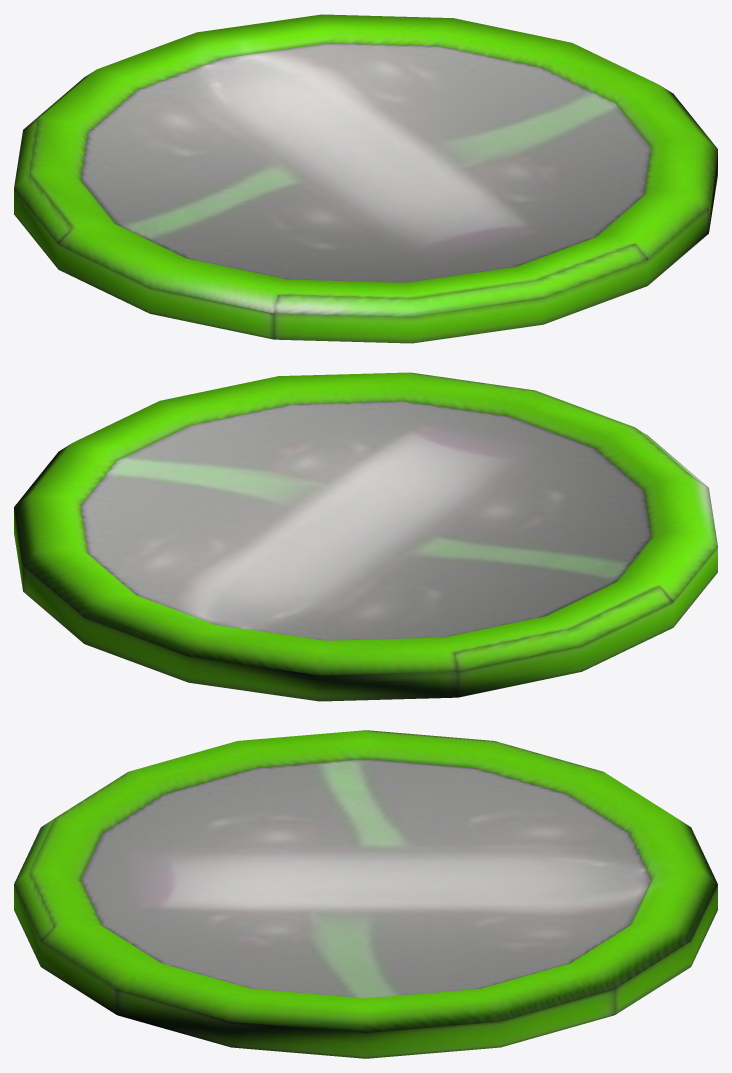
File: carstand.obj
The picture shows the model from 3 angles, top to bottom: view 1: azimuth 30°, elevation 25°; view 2: azimuth 150°, elevation 25°; view 3: azimuth 270°, elevation 25°; orthographic projection.
Parts seen in each view (by area): view 1: Cylinder001; view 2: Cylinder001; view 3: Cylinder001.
Part boxes in pixels (box(x1,y1,x2,y2)): Cylinder001: box(14, 14, 717, 343); Cylinder001: box(14, 372, 717, 701); Cylinder001: box(14, 730, 717, 1058).
Bounding box in the file's own units: 52.96 × 3.14 × 52.96.
Materials: 1 (1 with a texture image).
